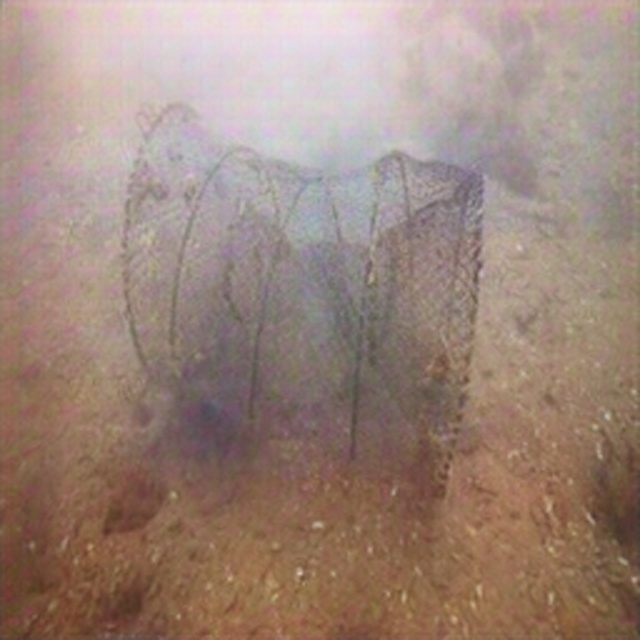mine: (120, 99, 486, 508)
